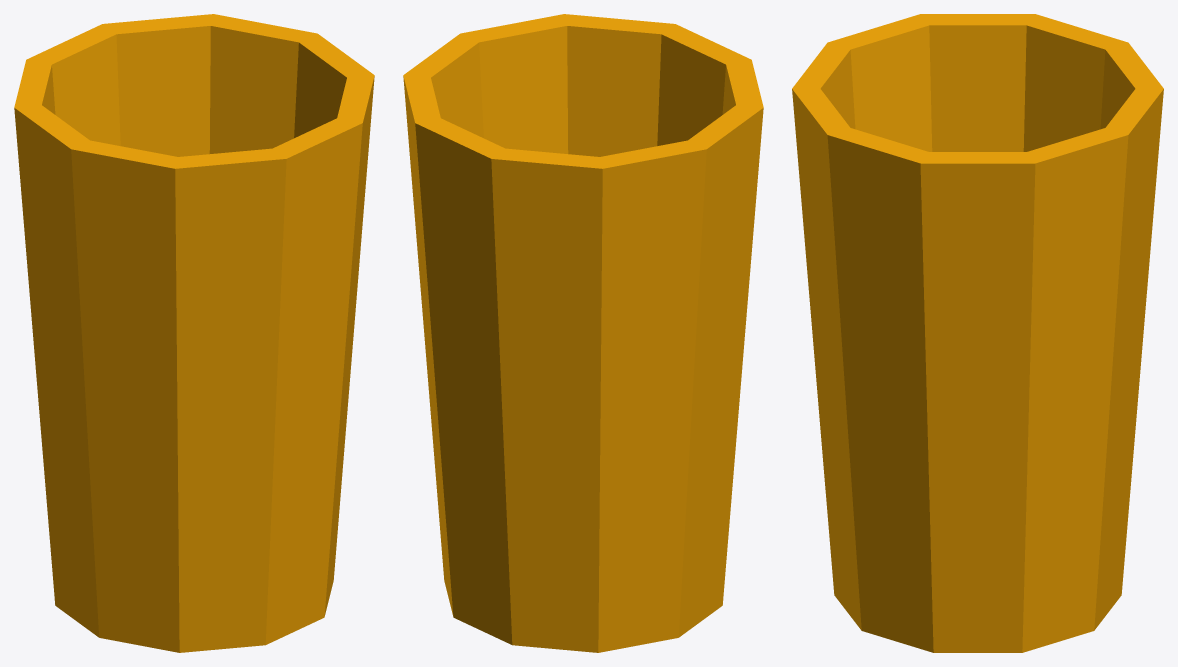
File: Cup.fbx
3 views of the same model, side by side, from view 1: azimuth 30°, elevation 25°; view 2: azimuth 150°, elevation 25°; view 3: azimuth 270°, elevation 25° (orthographic).
Parts seen in each view (by area): view 1: Cup1; view 2: Cup1; view 3: Cup1.
Boxes of the visible parts, box(x1,y1,x2,y2) form: Cup1: box(14, 14, 374, 652); Cup1: box(403, 14, 763, 652); Cup1: box(792, 14, 1163, 652).
Size of the model in its own units: 0.1079 by 0.1704 by 0.1134.
